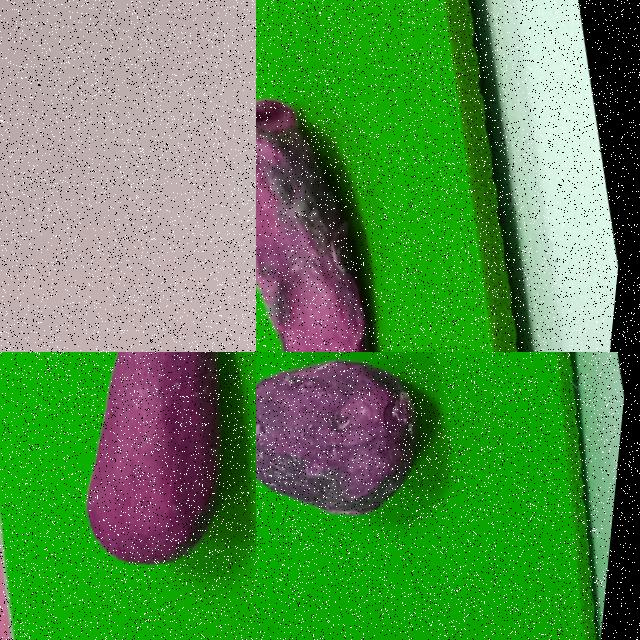Fine_cocoabeans: (0, 352, 255, 639), (256, 352, 516, 607)
Flat_cocoabeans: (256, 2, 487, 351)
